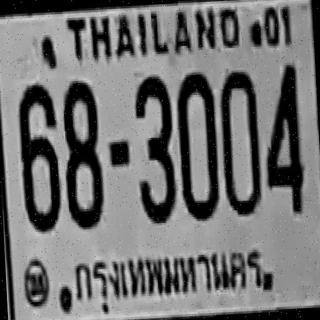N00: (175, 69, 220, 220), (218, 69, 262, 215)
N03: (132, 74, 177, 222)
N04: (261, 62, 305, 213)
N06: (17, 82, 62, 232)
N08: (60, 78, 103, 228)
P04: (70, 239, 266, 313)
